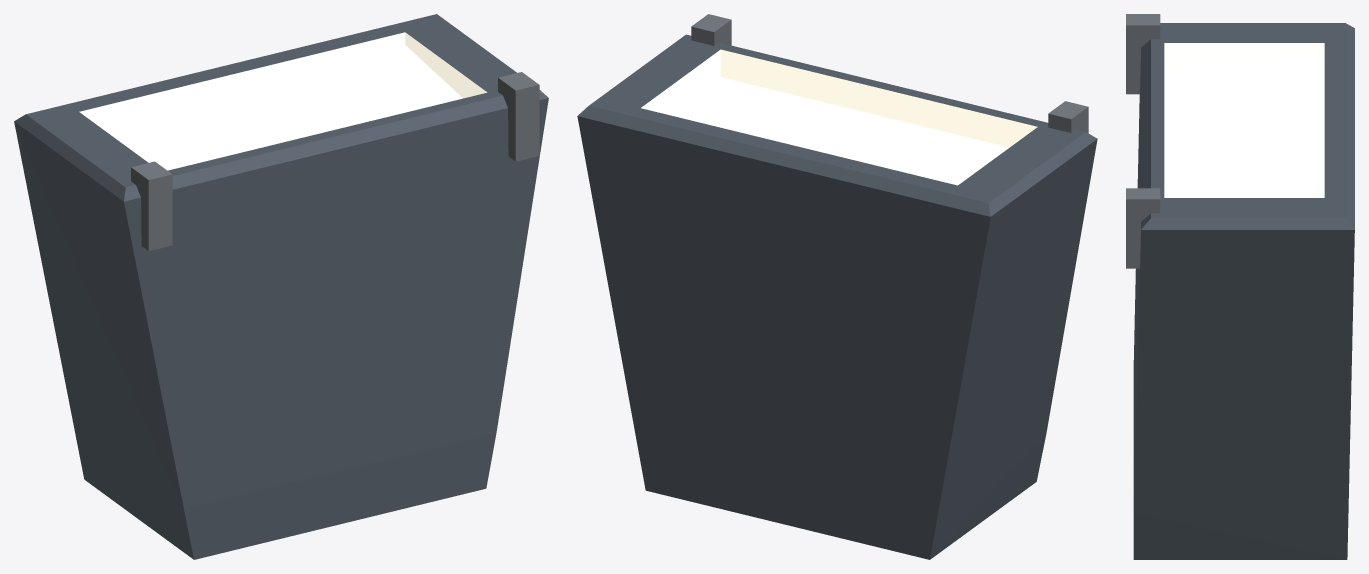
Rendered from grabon_console.glb.
3 renders of one model, left to right at view 1: azimuth 30°, elevation 25°; view 2: azimuth 150°, elevation 25°; view 3: azimuth 270°, elevation 25°, orthographic. The views are drawn at different scales.
Visible parts, largest first — view 1: grabon_console; view 2: grabon_console; view 3: grabon_console.
Part boxes in pixels (x1,y1,x2,y2): grabon_console: (14, 14, 548, 559); grabon_console: (577, 14, 1097, 559); grabon_console: (1126, 14, 1354, 559).
Bounding box in the file's own units: 1.25 × 1.11 × 0.5995.
